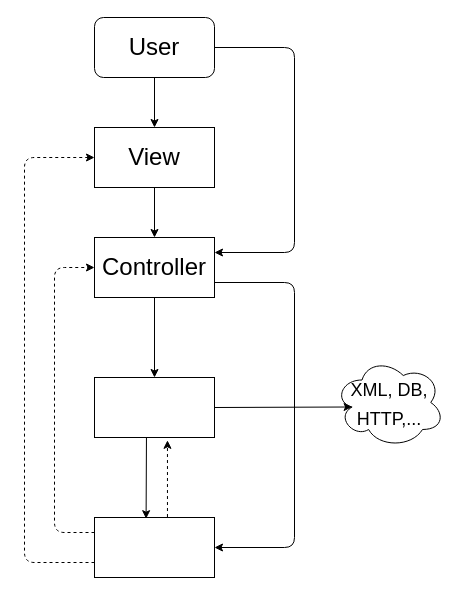
This 462x595 diagram has some shape labels left out. The centre of each missing label's shape, as x and y in pixels:
"Model" goes at (154,547).
"Service" goes at (154,407).
